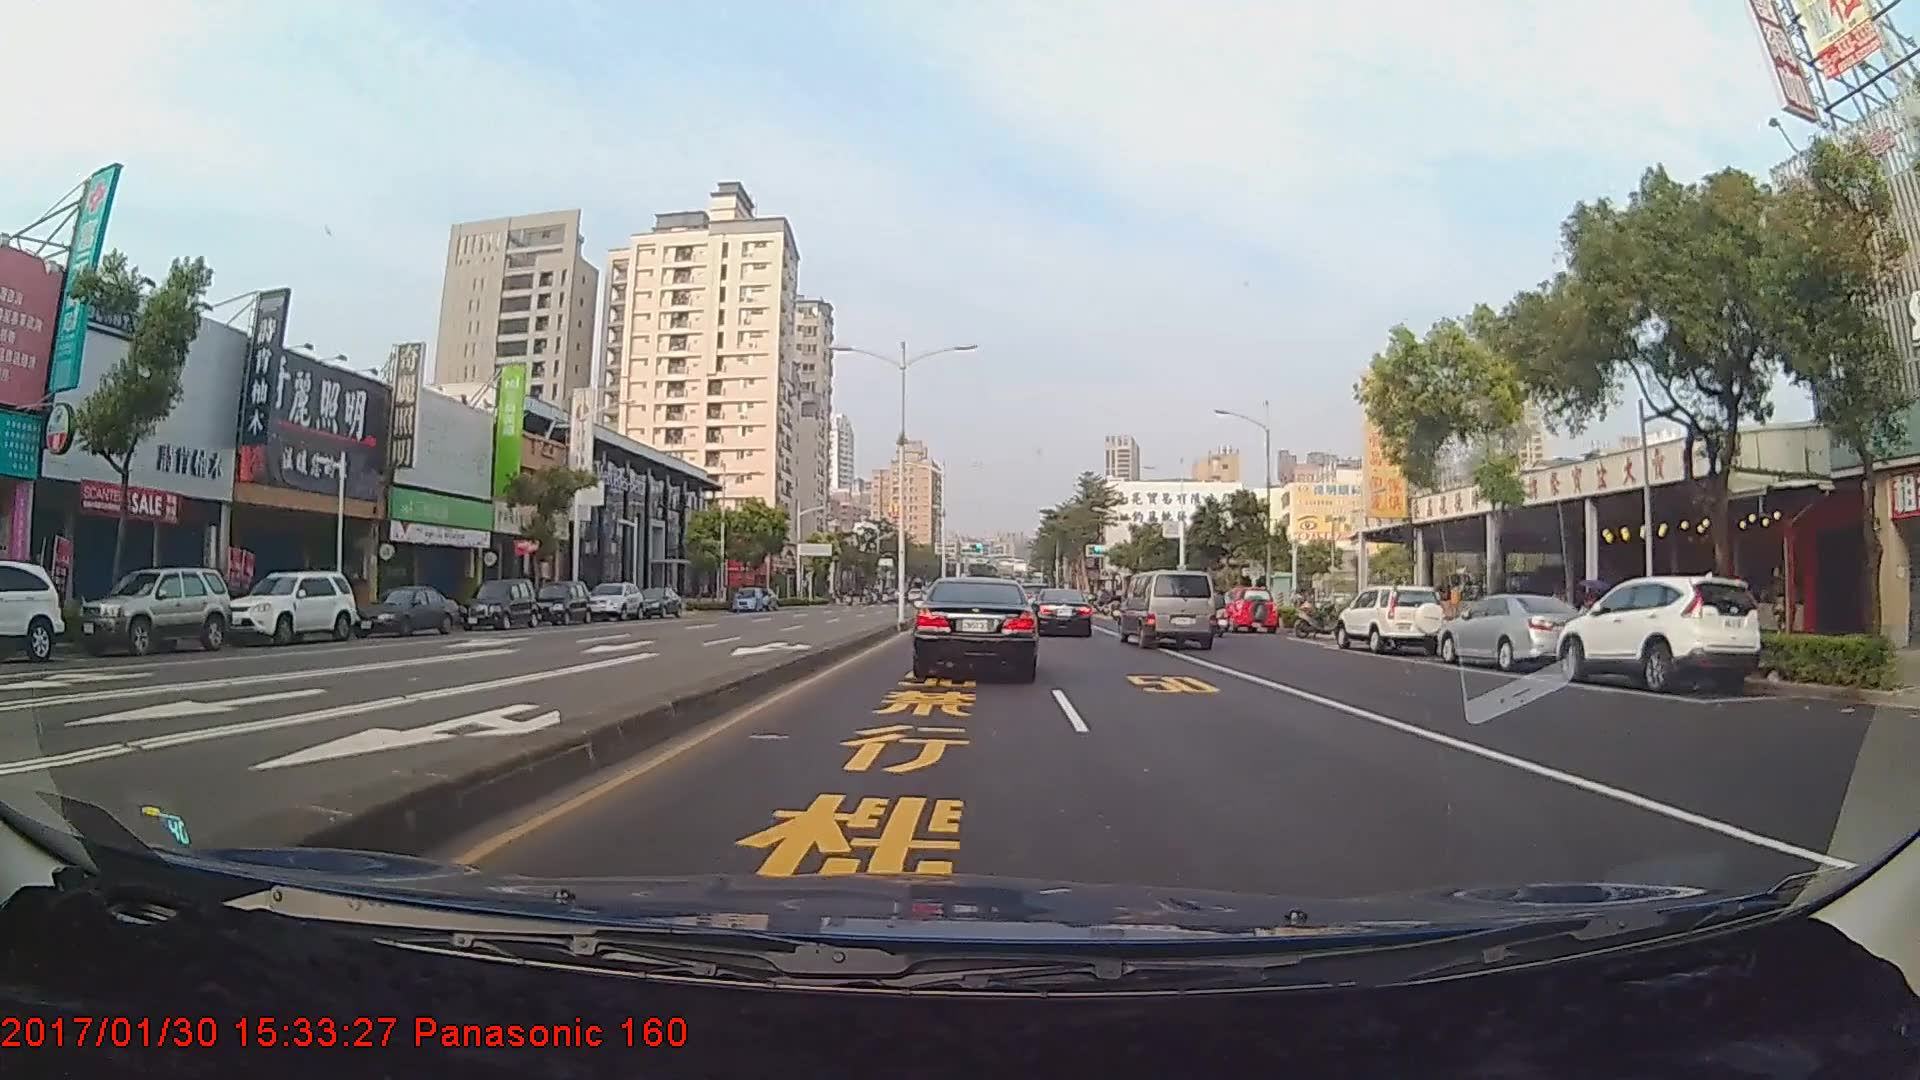vehicle: (1556, 571, 1776, 699), (75, 566, 232, 655), (913, 575, 1039, 682), (1436, 589, 1577, 671), (222, 568, 353, 644), (1118, 568, 1217, 650), (1335, 585, 1447, 655), (0, 560, 65, 662), (349, 587, 460, 638), (455, 578, 537, 629), (1029, 587, 1095, 638), (529, 580, 589, 626), (1226, 585, 1278, 634), (585, 583, 645, 622), (632, 585, 680, 620), (729, 588, 761, 615)
